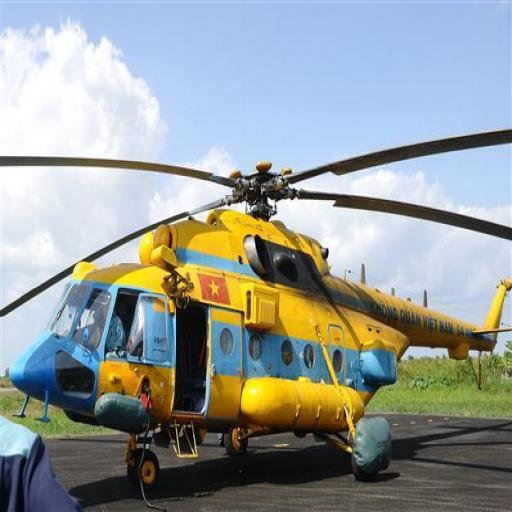helicopter: (14, 92, 488, 447)
